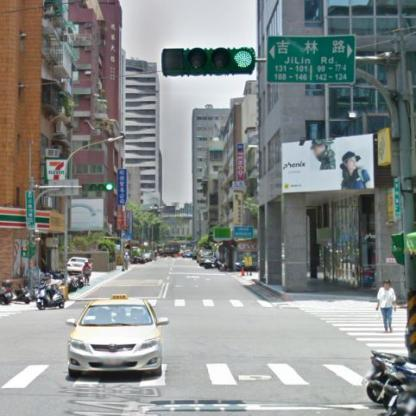Green Light: (159, 46, 256, 77), (82, 180, 114, 194)
